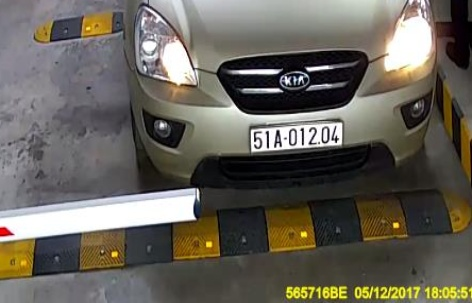plate: (240, 119, 352, 159)
